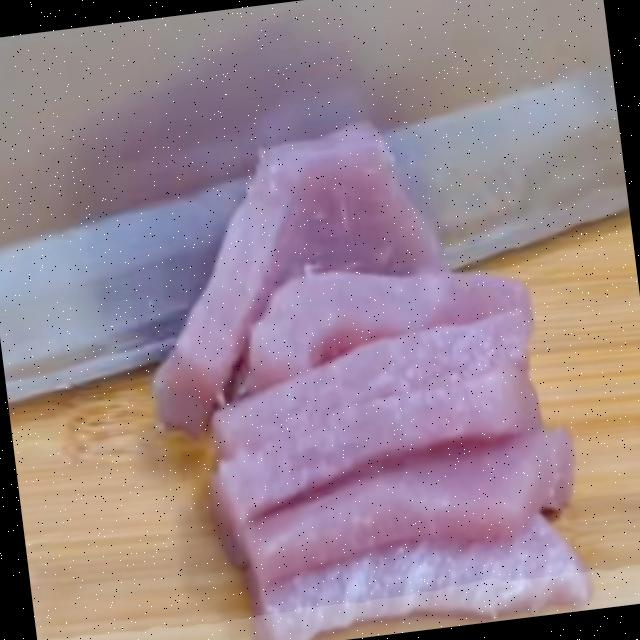meat: (212, 404, 620, 640), (180, 300, 540, 512), (148, 105, 424, 345), (225, 250, 545, 378)
